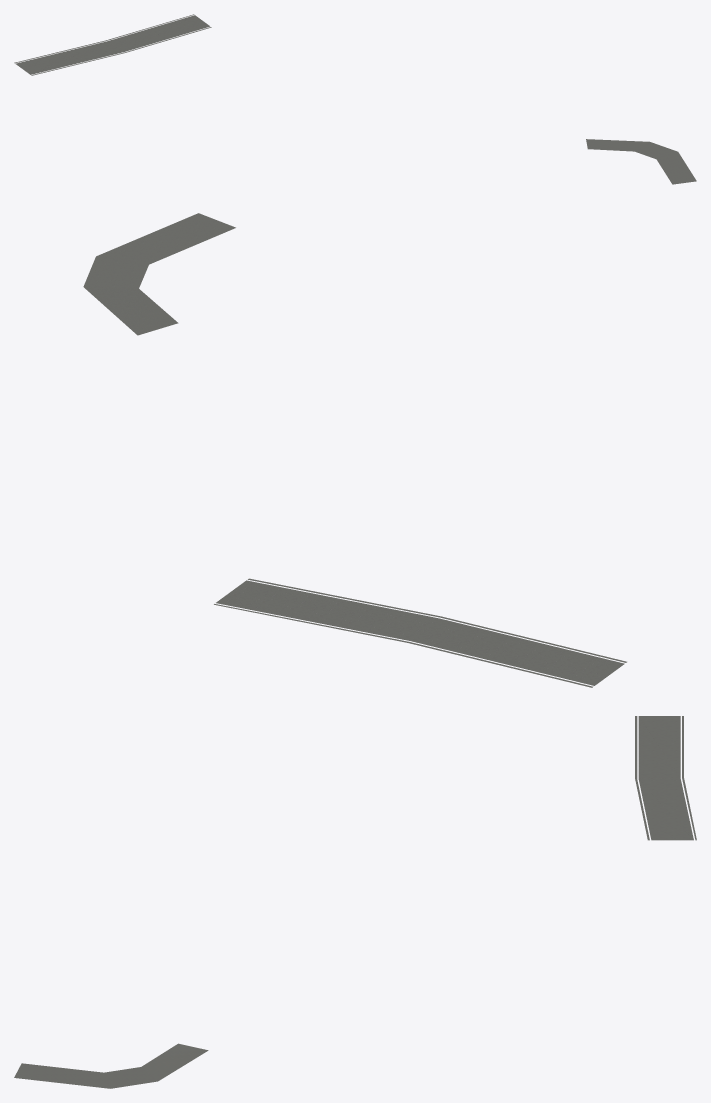
Rendered from kd_stage_13612f_0_22.glb.
3 views of the same model, one above another, from view 1: azimuth 30°, elevation 25°; view 2: azimuth 150°, elevation 25°; view 3: azimuth 270°, elevation 25° (orthographic). The views are drawn at different scales.
Parts seen in each view (by area): view 1: kd_stage_13612f_0_22; view 2: kd_stage_13612f_0_22; view 3: kd_stage_13612f_0_22.
Boxes of the visible parts, box(x1,y1,x2,y2) form: kd_stage_13612f_0_22: box(14, 14, 696, 184); kd_stage_13612f_0_22: box(83, 213, 626, 687); kd_stage_13612f_0_22: box(14, 716, 696, 1088).
Size of the model in its own units: 104 by 10.4 by 97.57.
Materials: 1 (1 with a texture image).
